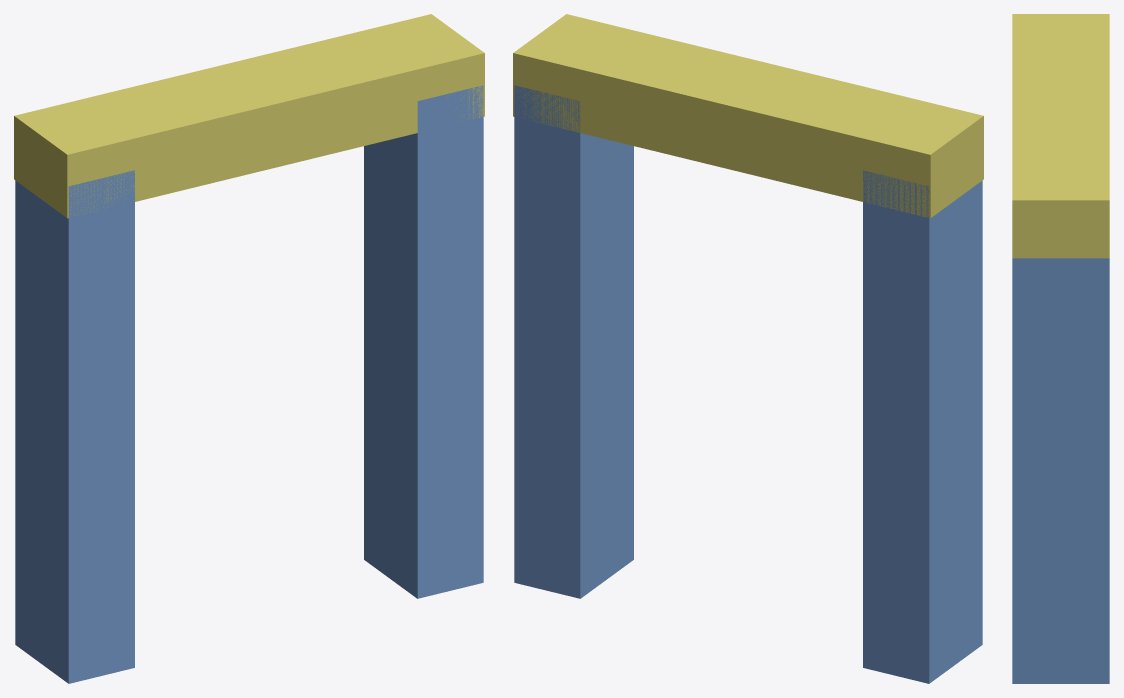
Rendered from portal.obj.
3 views of the same model, side by side, from view 1: azimuth 30°, elevation 25°; view 2: azimuth 150°, elevation 25°; view 3: azimuth 270°, elevation 25° (orthographic). The views are drawn at different scales.
Size of the model in its own units: 1.58 by 1.91 by 0.35.
